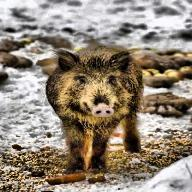boar: (54, 38, 150, 179)
